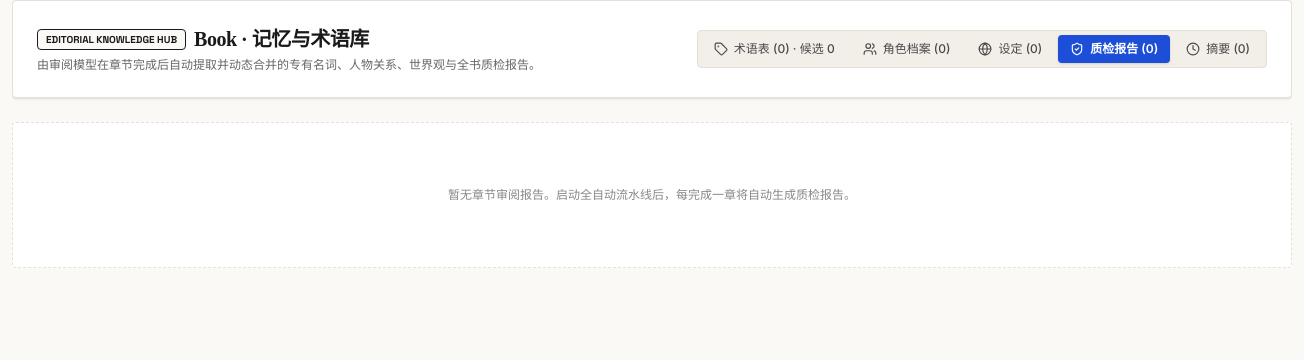
it: QA regression: Knowledge partial loading › keeps available glossary data visible when memory fails
This screenshot has width=1304, height=360.
Click the button "角色档案 (0)".
click(906, 49)  # box [851,35,962,63]
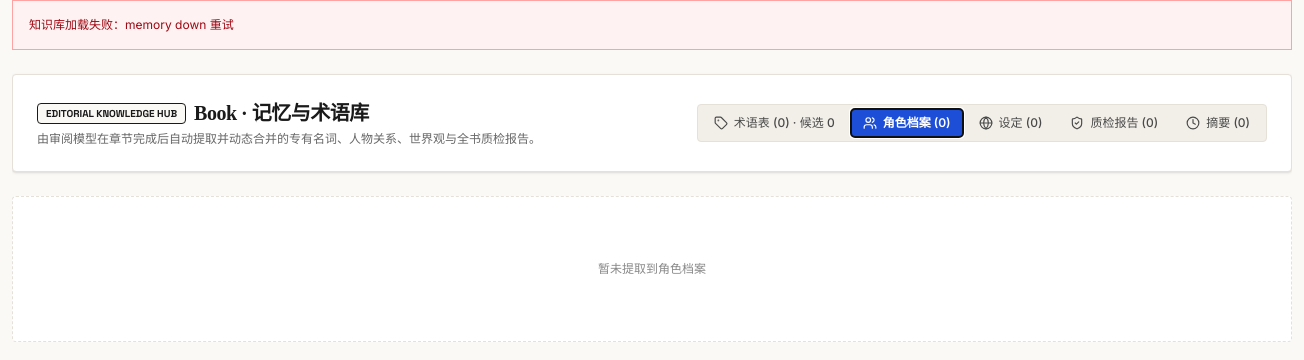
Check: the message shows "memory down", box [125,17,206,32]
Click the button "术语表 (0) · 候选 0".
click(774, 123)  # box [702,109,847,137]
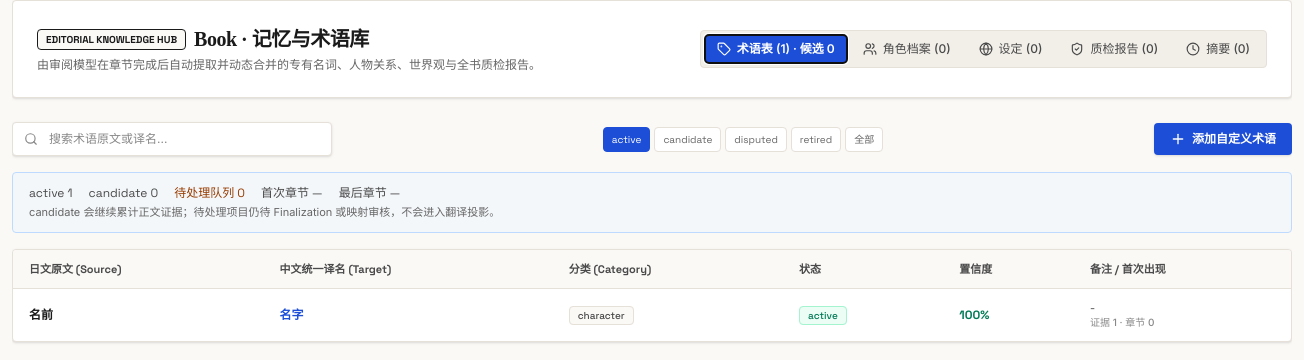
Check: the text "名字" is shown, box [264,289,553,341]
